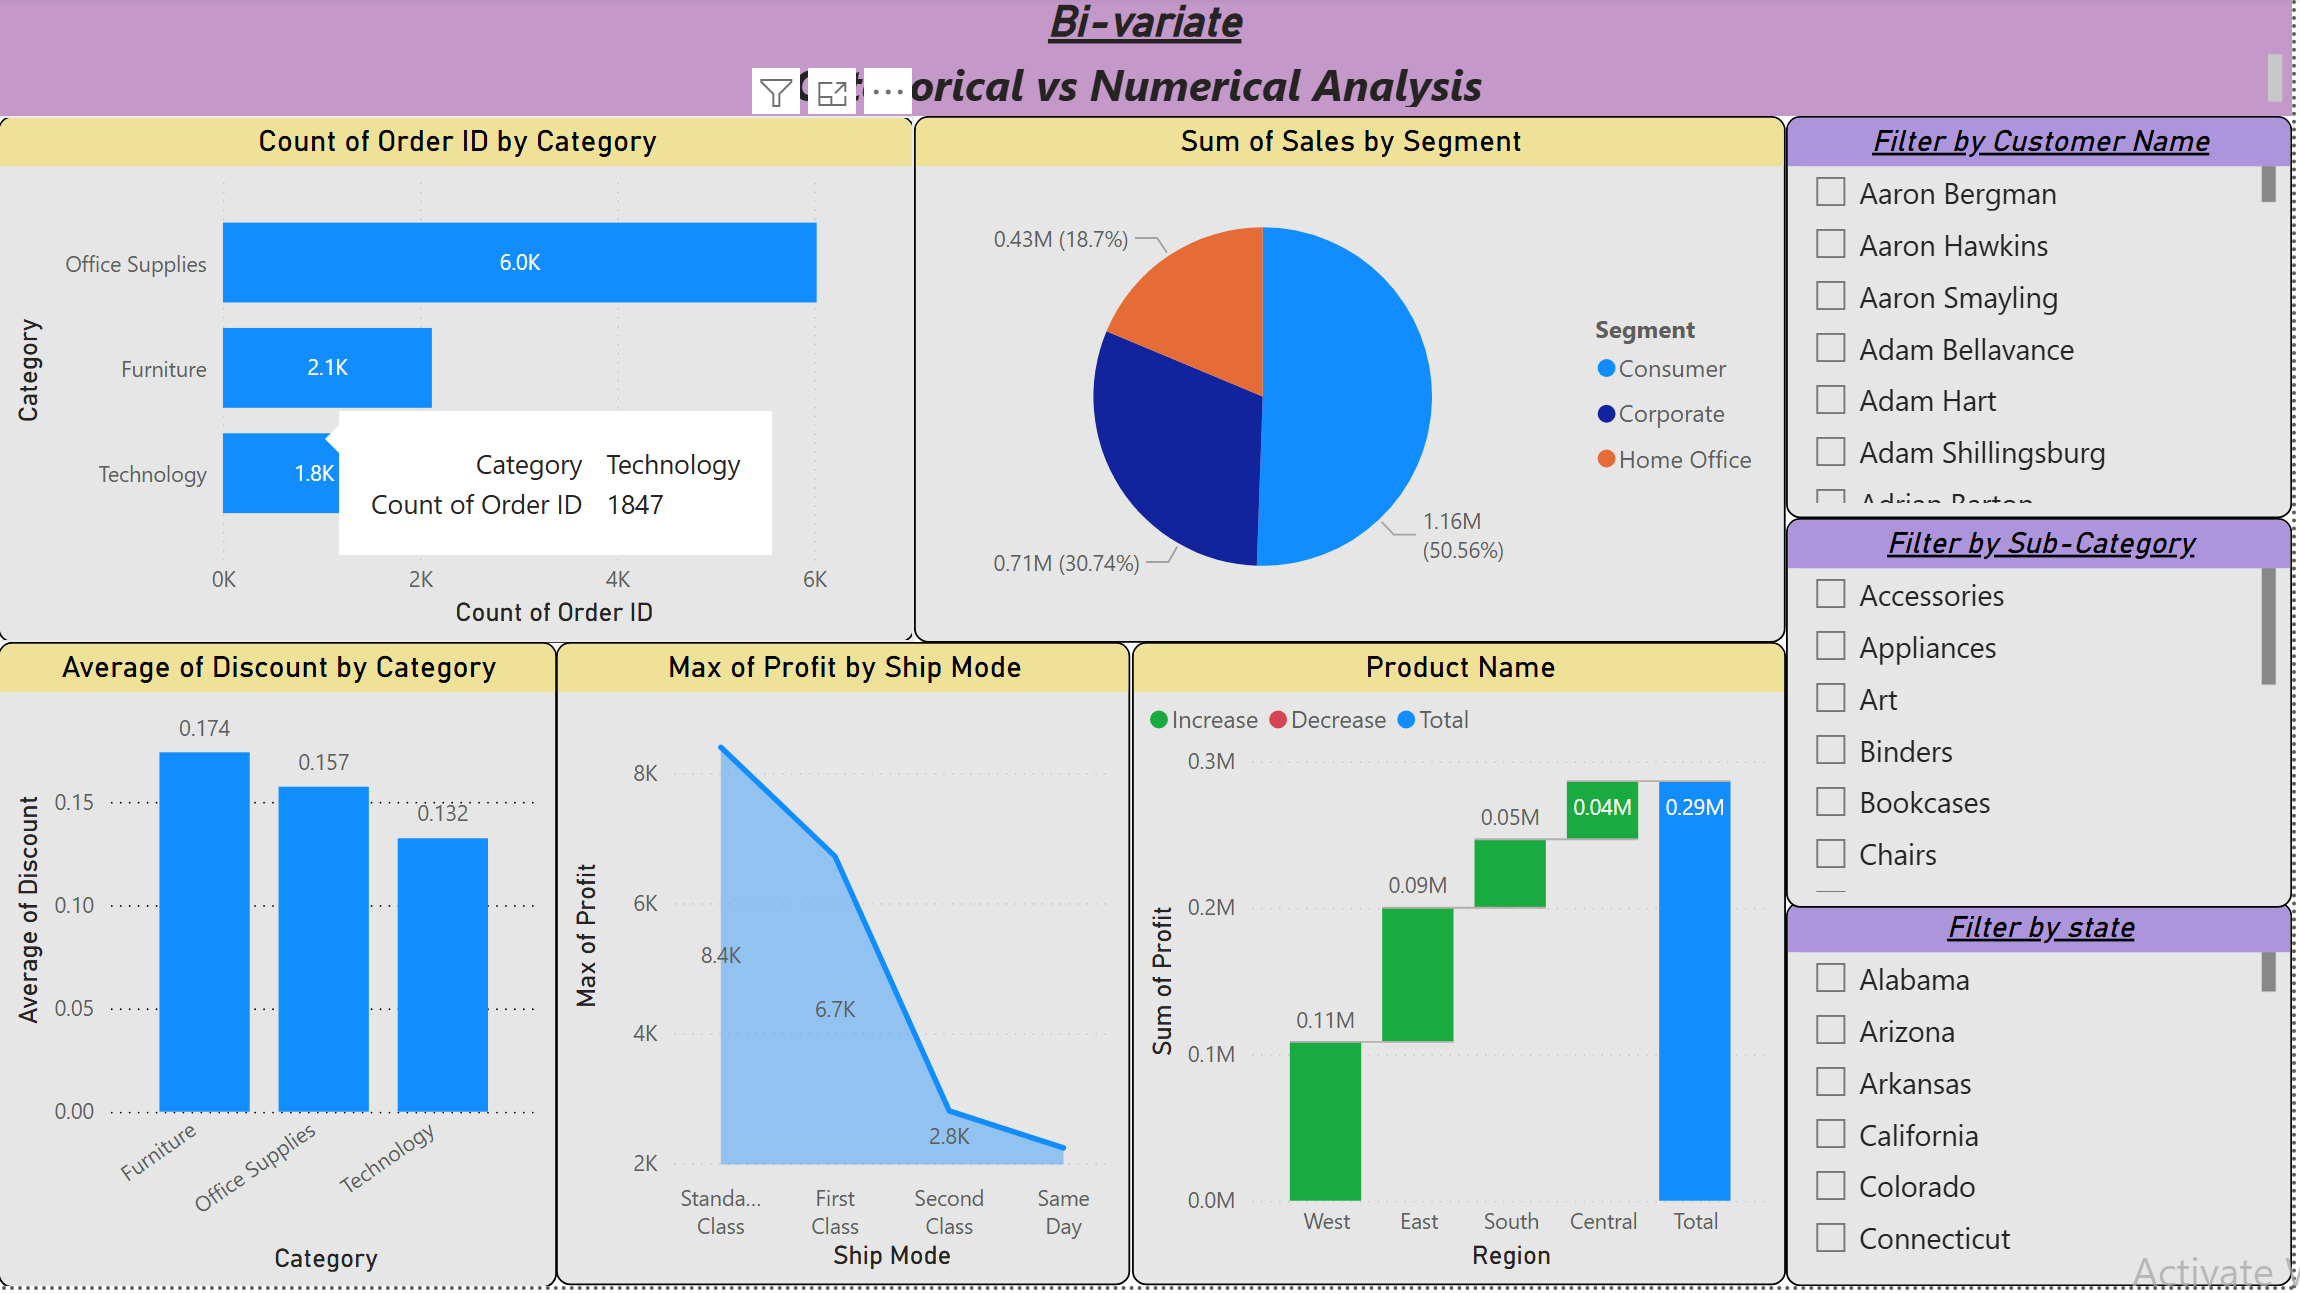

The dashboard page shown, as its layout file describes it:
{"tool":"powerbi","page":{"name":"Bi-variate","canvas":[1280,720],"ordinal":2},"visuals":[{"type":"textbox","title":"Bi-variate ","box":[0,0,1280,66.5],"z":0},{"type":"clusteredColumnChart","fields":{"Category":["Superstore.Category"],"Y":["Superstore.Discount"]},"box":[0,360.6,311.9,360.6],"z":1000},{"type":"pieChart","fields":{"Category":["Superstore.Segment"],"Y":["Superstore.Sales"]},"box":[511.4,66.5,486.3,294.1],"z":2000},{"type":"clusteredBarChart","fields":{"Category":["Superstore.Category"],"Y":["Superstore.Order ID"]},"box":[0,66.5,511.4,294.1],"z":3000},{"type":"stackedAreaChart","fields":{"Category":["Superstore.Ship Mode"],"Y":["Superstore.Profit"]},"box":[311.9,360.6,320.7,359.2],"z":4000},{"type":"waterfallChart","title":"Product Name","fields":{"Category":["Superstore.Region"],"Y":["Superstore.Profit"]},"box":[632.6,360.6,365.1,359.2],"z":6000},{"type":"slicer","title":"Filter by state","fields":{"Values":["Superstore.State"]},"box":[997.7,505.7,282.3,214.3],"z":8000},{"type":"slicer","title":"Filter by Customer Name","fields":{"Values":["Superstore.Customer Name"]},"box":[997.7,66.5,282.3,224.7],"z":9000},{"type":"slicer","title":"Filter by Sub-Category","fields":{"Values":["Superstore.Sub-Category"]},"box":[997.7,291.2,282.3,217.3],"z":9001}]}

Visuals, with their boxes in screenshot pixels (x1, y1, x2, y2):
"Bi-variate " textbox: (12,0,2280,118)
clusteredColumnChart - Superstore.Category x Superstore.Discount: (12,639,565,1278)
pieChart - Superstore.Segment x Superstore.Sales: (918,118,1780,639)
clusteredBarChart - Superstore.Category x Superstore.Order ID: (12,118,918,639)
stackedAreaChart - Superstore.Ship Mode x Superstore.Profit: (565,639,1133,1276)
"Product Name" waterfallChart: (1133,639,1780,1276)
"Filter by state" slicer: (1780,896,2280,1276)
"Filter by Customer Name" slicer: (1780,118,2280,516)
"Filter by Sub-Category" slicer: (1780,516,2280,901)
